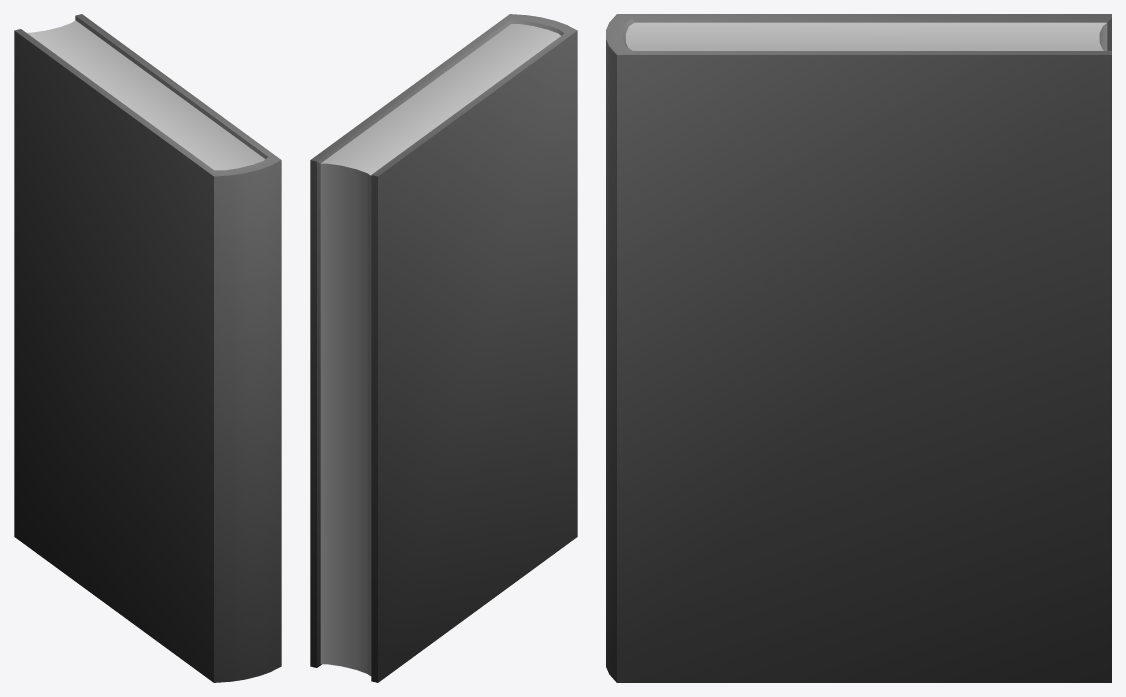
File: Book_05.fbx
3 views of the same model, side by side, from view 1: azimuth 30°, elevation 25°; view 2: azimuth 150°, elevation 25°; view 3: azimuth 270°, elevation 25° (orthographic). The views are drawn at different scales.
Parts seen in each view (by area): view 1: book_5; view 2: book_5; view 3: book_5.
Part boxes in pixels (box(x1,y1,x2,y2)): book_5: box(14, 14, 281, 682); book_5: box(310, 14, 577, 682); book_5: box(606, 14, 1111, 682).
Size of the model in its own units: 0.0322 by 0.2305 by 0.1683.
